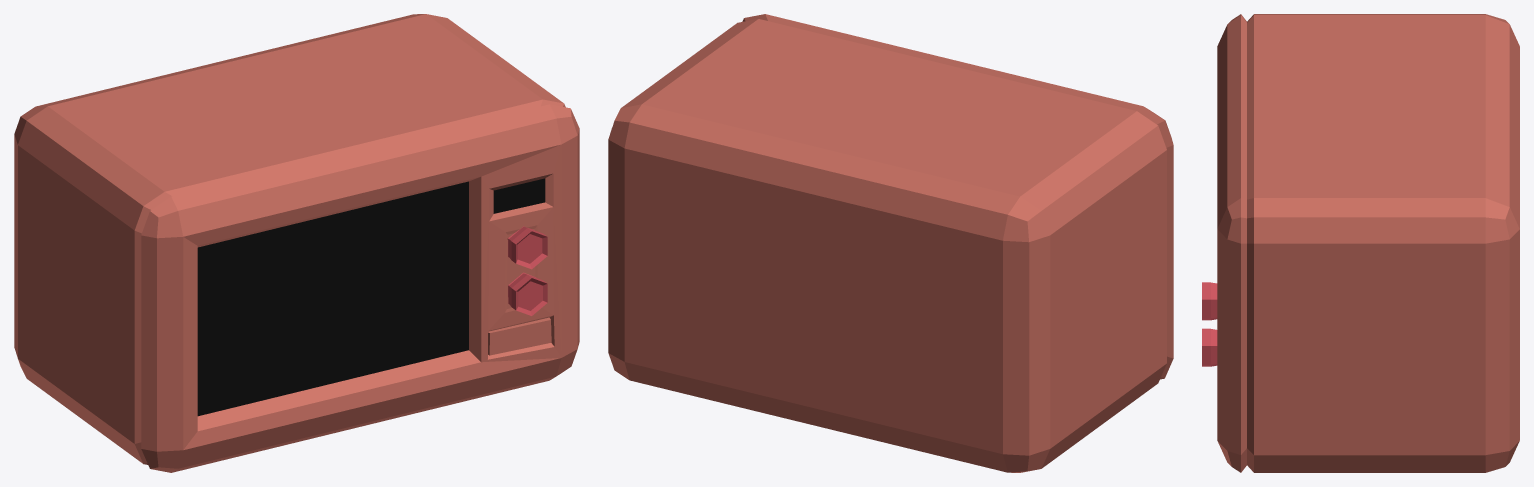
File: Micro.glb
3 renders of one model, left to right at view 1: azimuth 30°, elevation 25°; view 2: azimuth 150°, elevation 25°; view 3: azimuth 270°, elevation 25°, orthographic.
Parts seen in each view (by area): view 1: mesh_id6, mesh_id7, mesh_id5; view 2: mesh_id6; view 3: mesh_id6, mesh_id5.
Boxes of the visible parts, x1,y1,x2,y2 form: mesh_id6: (14,14,579,472); mesh_id7: (197,178,545,416); mesh_id5: (507,226,547,315); mesh_id6: (608,14,1173,472); mesh_id6: (1217,14,1519,472); mesh_id5: (1202,282,1217,366).
Size of the model in its own units: 0.512 by 0.3084 by 0.3244.
3 materials, 3 textured.
